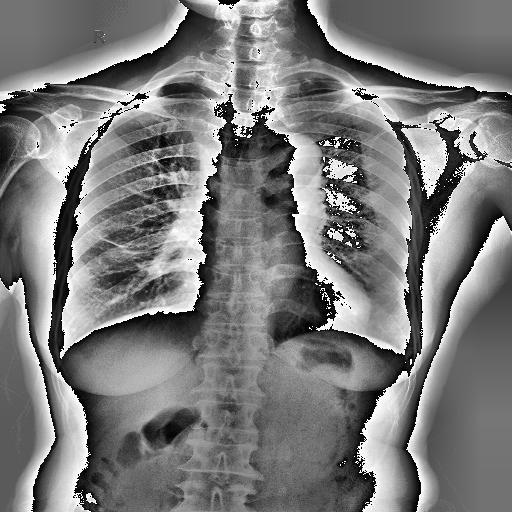0- Aortic enlargement: (254, 131, 322, 199), (262, 131, 322, 198), (262, 132, 323, 181)
13- Pulmonary fibrosis: (94, 232, 185, 274), (98, 231, 130, 253)
